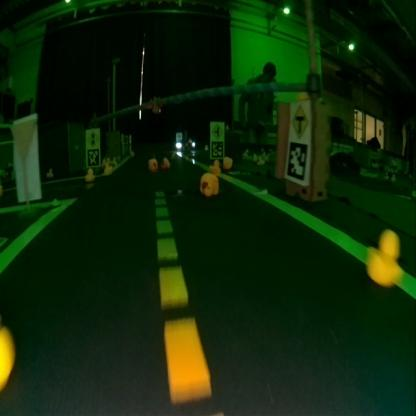Duckie: (365, 230, 403, 287), (199, 172, 218, 196), (147, 158, 158, 170), (84, 168, 93, 181), (211, 160, 220, 172), (222, 157, 232, 167), (161, 157, 169, 168), (46, 168, 53, 178), (103, 164, 111, 172)
Intersection sign: (292, 104, 310, 138), (211, 123, 222, 138)
QR code: (284, 142, 307, 180), (86, 148, 99, 166), (210, 140, 223, 156)
Signal sign: (86, 129, 98, 146)
